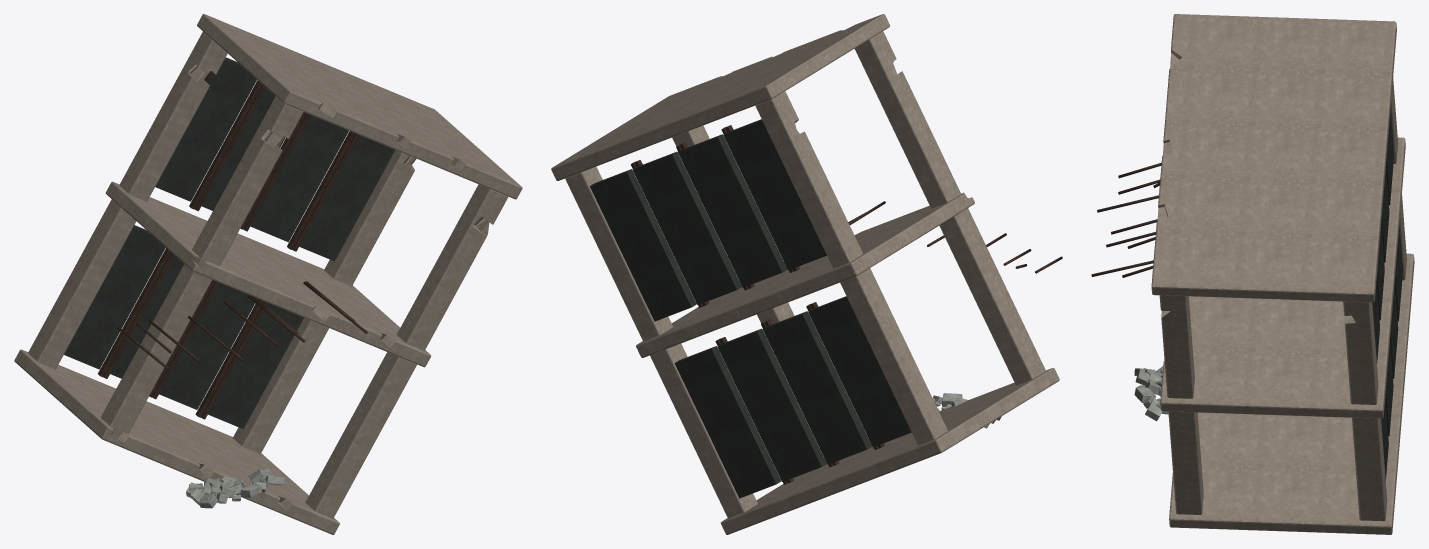
Rendered from f3_v3_collapsed_storey.glb.
The picture shows the model from 3 angles, left to right: view 1: azimuth 30°, elevation 25°; view 2: azimuth 150°, elevation 25°; view 3: azimuth 270°, elevation 25°; orthographic projection. The views are drawn at different scales.
Visible parts, largest first — view 1: f3_weathered_concrete_surface, f3_deep_crack_surface, f3_oxidized_iron_surface, f3_exposed_aggregate_surface; view 2: f3_weathered_concrete_surface, f3_deep_crack_surface, f3_oxidized_iron_surface; view 3: f3_weathered_concrete_surface, f3_deep_crack_surface, f3_oxidized_iron_surface, f3_exposed_aggregate_surface.
Part boxes in pixels (x1,y1,x2,y2): f3_weathered_concrete_surface: (14,14,522,534); f3_deep_crack_surface: (64,57,395,429); f3_oxidized_iron_surface: (98,71,367,419); f3_exposed_aggregate_surface: (186,468,284,508); f3_weathered_concrete_surface: (551,14,1059,534); f3_deep_crack_surface: (590,119,911,498); f3_oxidized_iron_surface: (630,125,1062,484); f3_weathered_concrete_surface: (1151,14,1414,534); f3_deep_crack_surface: (1372,110,1402,480); f3_oxidized_iron_surface: (1091,162,1161,277); f3_exposed_aggregate_surface: (1134,366,1168,421).
Size of the model in its own units: 7.96 by 8.25 by 4.92.
4 materials, 4 textured.
